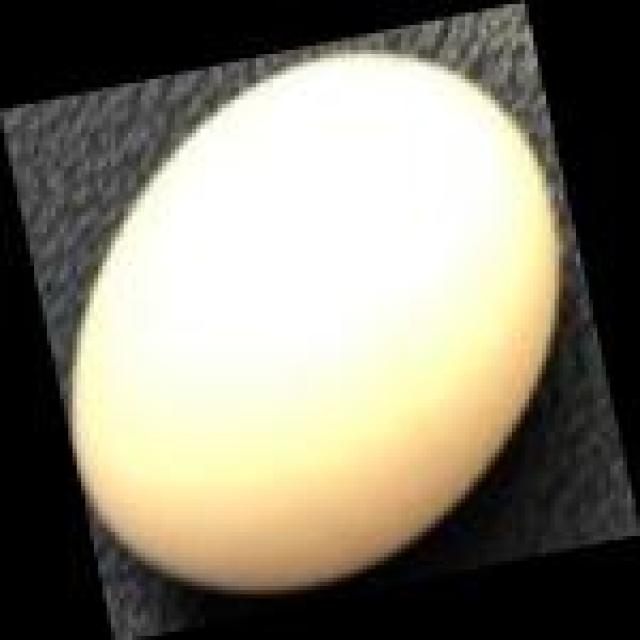Egg: (50, 41, 585, 613)
